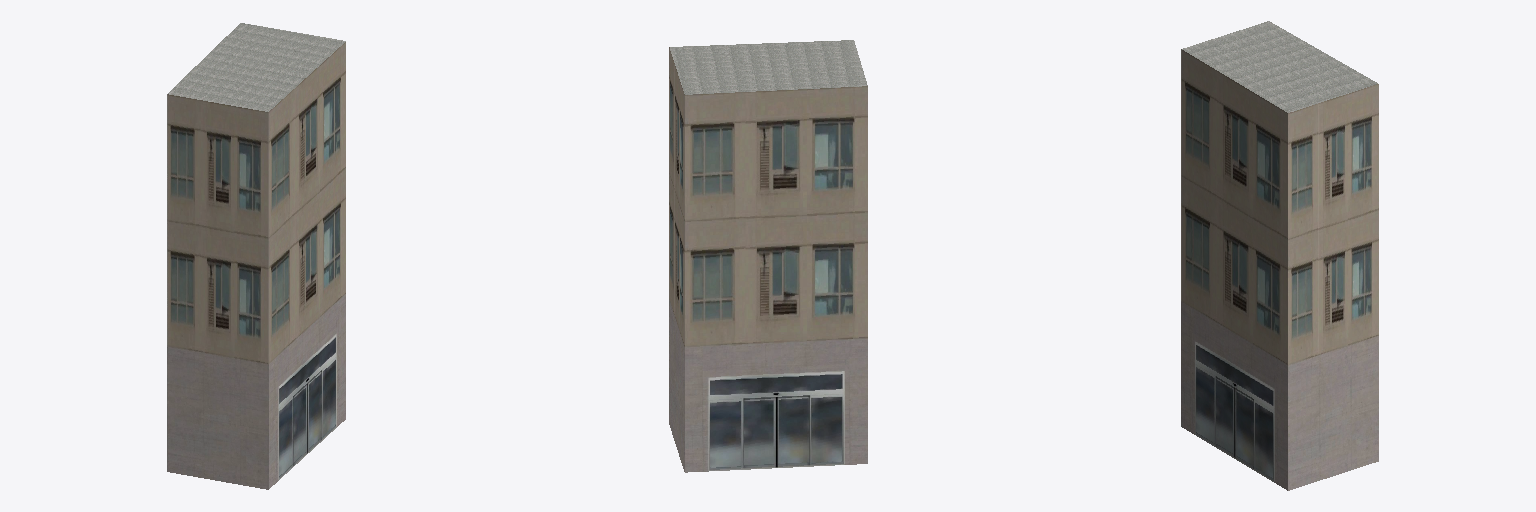
3 renders of one model, left to right at view 1: azimuth 30°, elevation 25°; view 2: azimuth 150°, elevation 25°; view 3: azimuth 270°, elevation 25°, orthographic.
Parts seen in each view (by area): view 1: BuildingMaster_[number redacted]_0, BuildingMaster_[number redacted]_1; view 2: BuildingMaster_[number redacted]_0, BuildingMaster_[number redacted]_1; view 3: BuildingMaster_[number redacted]_0, BuildingMaster_[number redacted]_1.
Boxes of the visible parts, x1=… form: BuildingMaster_[number redacted]_0: x1=167, y1=42, x2=345, y2=489; BuildingMaster_[number redacted]_1: x1=168, y1=23, x2=345, y2=111; BuildingMaster_[number redacted]_0: x1=669, y1=47, x2=867, y2=472; BuildingMaster_[number redacted]_1: x1=670, y1=40, x2=867, y2=94; BuildingMaster_[number redacted]_0: x1=1181, y1=49, x2=1378, y2=490; BuildingMaster_[number redacted]_1: x1=1182, y1=21, x2=1377, y2=112.
Size of the model in its own units: 5.5 by 10.5 by 4.97.
Materials: 2 (2 with a texture image).